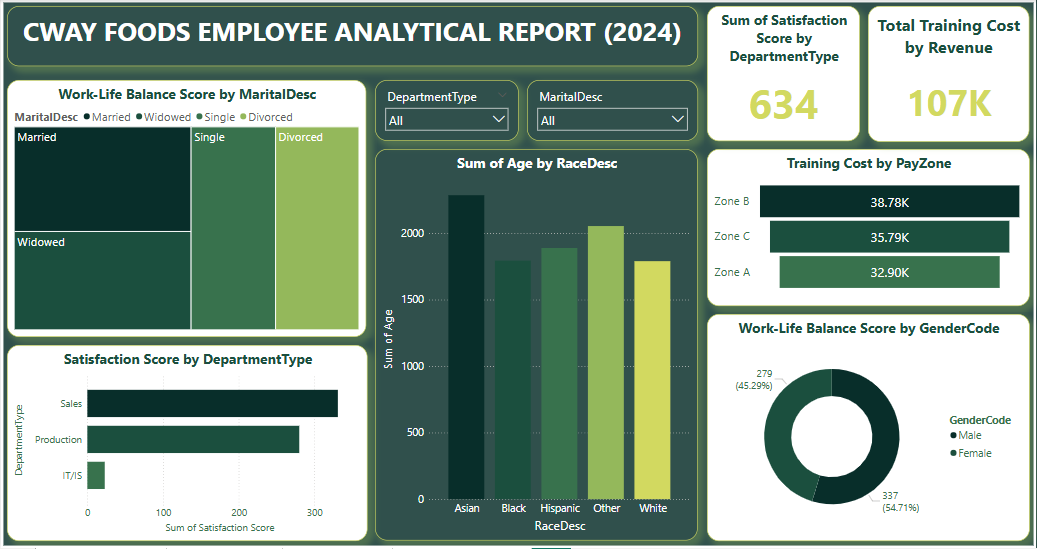

What the dashboard file says about the page in this screenshot:
{"tool":"powerbi","page":{"name":"Main Dashboard","canvas":[1700,900],"ordinal":0},"visuals":[{"type":"clusteredColumnChart","fields":{"Category":["Table1.RaceDesc"],"Y":["Sum(Table1.Age)"]},"box":[614.2,244.9,530.1,643.4],"z":0},{"type":"barChart","title":"Satisfaction Score by DepartmentType","fields":{"Category":["Table1.DepartmentType"],"Y":["Sum(Table1.Satisfaction Score)"]},"box":[9.1,566.7,592.3,321.7],"z":1000},{"type":"donutChart","title":"Work-Life Balance Score by GenderCode","fields":{"Category":["Table1.GenderCode"],"Y":["Sum(Table1.Work-Life Balance Score)"]},"box":[1158.9,515.5,530.1,372.9],"z":2000},{"type":"treemap","title":"Work-Life Balance Score by MaritalDesc","fields":{"Group":["Table1.MaritalDesc"],"Values":["Sum(Table1.Work-Life Balance Score)"]},"box":[9.9,131.4,589.6,422.1],"z":3000},{"type":"funnel","title":"Training Cost by PayZone","fields":{"Category":["Table1.PayZone"],"Y":["Sum(Table1.Training Cost)"]},"box":[1158.9,244.9,530.1,257.7],"z":4000},{"type":"textbox","box":[9.9,9.9,1134.9,98.5],"z":5000},{"type":"slicer","fields":{"Values":["Table1.DepartmentType"]},"box":[614.2,131.4,236.5,100.2],"z":6000},{"type":"slicer","fields":{"Values":["Table1.MaritalDesc"]},"box":[863.9,131.4,280.8,100.2],"z":7000},{"type":"card","title":"Sum of Satisfaction Score by DepartmentType","fields":{"Values":["Sum(Table1.Satisfaction Score)"]},"box":[1159.5,9.9,251.3,221.7],"z":8000},{"type":"textbox","box":[1424,9.1,265.1,223],"z":9000},{"type":"shape","box":[0,0,1700,900],"z":10000}]}

Visuals, with their boxes in screenshot pixels (x1, y1, x2, y2), scaled from the page's 1700x900 canvas onto the 1037x549 screenshot:
clusteredColumnChart - Table1.RaceDesc x Sum(Table1.Age): bbox=(375, 149, 698, 542)
"Satisfaction Score by DepartmentType" barChart: bbox=(6, 346, 367, 542)
"Work-Life Balance Score by GenderCode" donutChart: bbox=(707, 314, 1030, 542)
"Work-Life Balance Score by MaritalDesc" treemap: bbox=(6, 80, 366, 338)
"Training Cost by PayZone" funnel: bbox=(707, 149, 1030, 307)
textbox: bbox=(6, 6, 698, 66)
slicer - Table1.DepartmentType: bbox=(375, 80, 519, 141)
slicer - Table1.MaritalDesc: bbox=(527, 80, 698, 141)
"Sum of Satisfaction Score by DepartmentType" card: bbox=(707, 6, 861, 141)
textbox: bbox=(869, 6, 1030, 142)
shape: bbox=(0, 0, 1036, 548)
